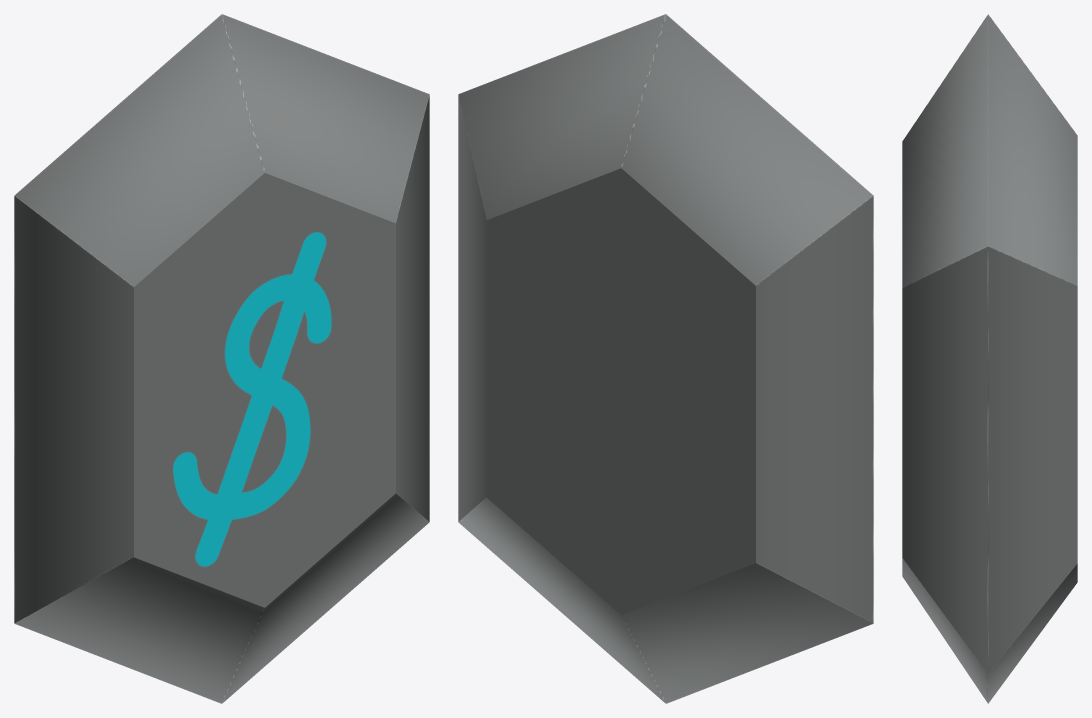
Rendered from pattern_d3.fbx.
3 renders of one model, left to right at view 1: azimuth 30°, elevation 25°; view 2: azimuth 150°, elevation 25°; view 3: azimuth 270°, elevation 25°, orthographic.
Visible parts, largest first — view 1: pattern_d3_GEO; view 2: pattern_d3_GEO; view 3: pattern_d3_GEO.
Boxes of the visible parts, x1,y1,x2,y2 form: pattern_d3_GEO: [14, 14, 429, 703]; pattern_d3_GEO: [458, 14, 873, 703]; pattern_d3_GEO: [902, 14, 1077, 703].
Size of the model in its own units: 1.41 by 2.24 by 0.5148.
